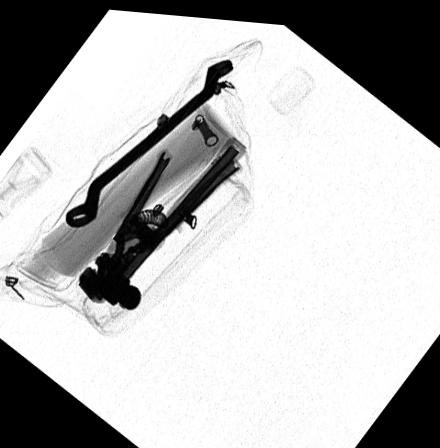Hammer: (89, 126, 246, 314)
Pliers: (71, 144, 245, 308)
Wrench: (61, 50, 233, 228)
